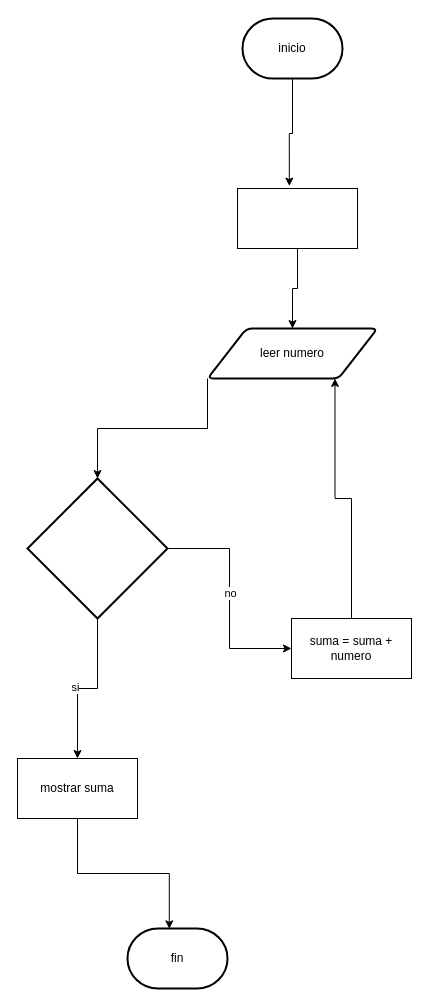
Image size: 429x1006. Some labels were removed from this diagram. The shapes that lost their labels are listed below. From the top down, each one's centre as x and y in pixels, then its label:
At (297,218): "suma = 0".
At (97,548): "¿numero == 0?".
